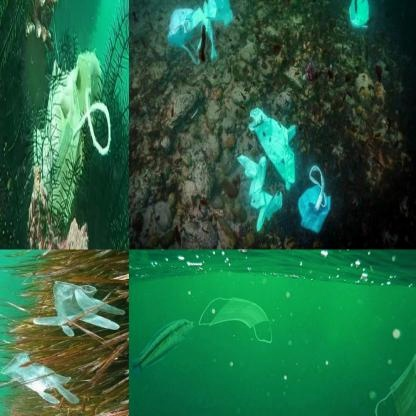Mask: (32, 51, 112, 216), (300, 165, 338, 240), (164, 1, 202, 74)
glove: (32, 280, 128, 341), (2, 350, 83, 406), (232, 148, 284, 230), (245, 108, 297, 188)
